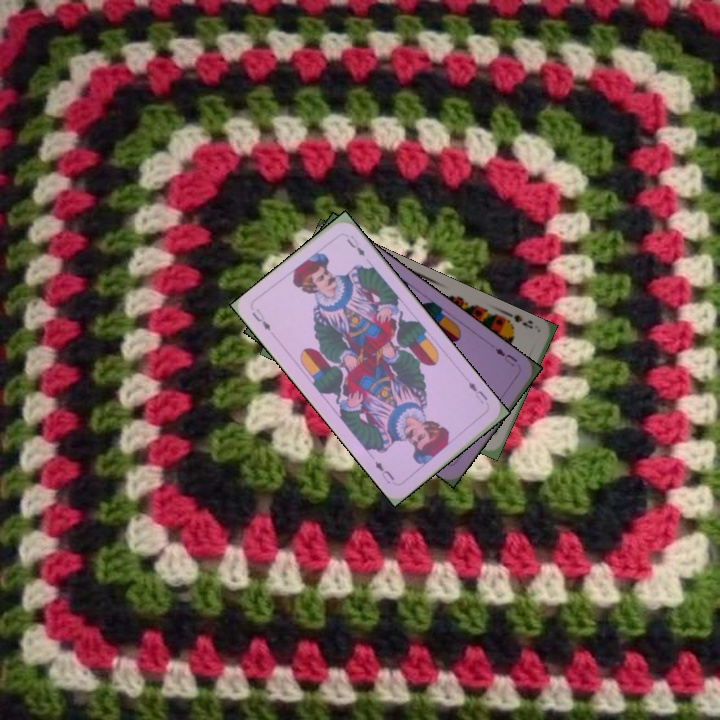EU: (464, 377, 492, 410), (491, 344, 520, 369), (248, 304, 273, 333)
S9: (499, 307, 535, 332)
